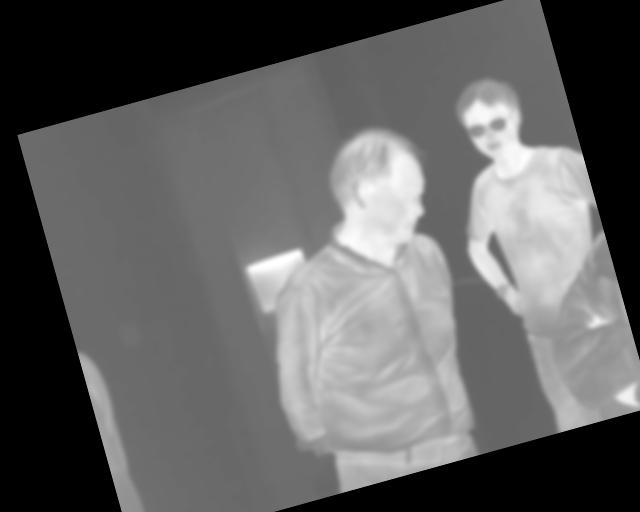face: (317, 114, 445, 258), (447, 69, 533, 166)
